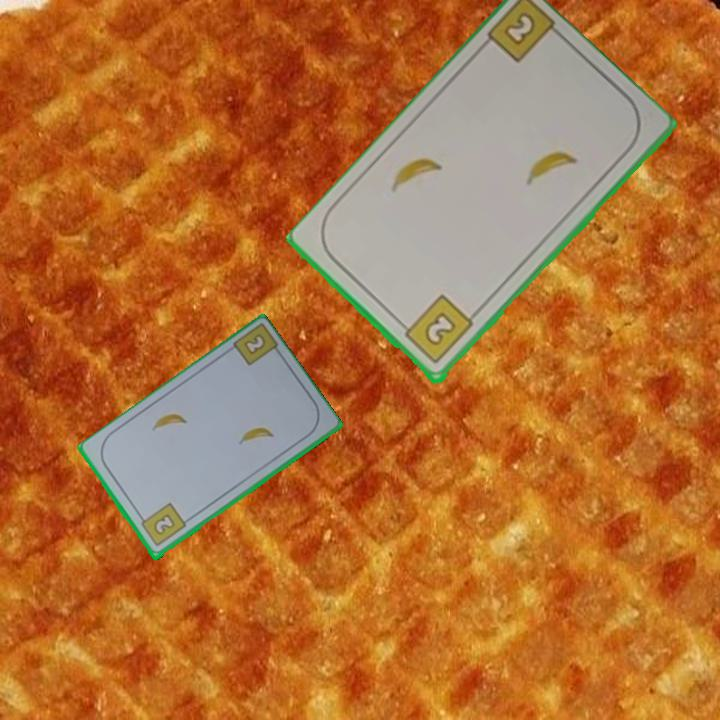2b: (396, 292, 476, 368), (136, 500, 189, 550), (500, 9, 539, 50), (240, 330, 269, 358)
